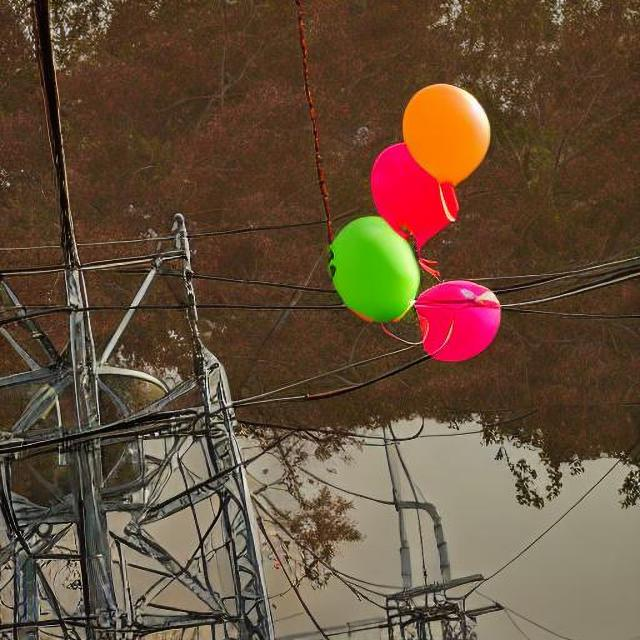balloon: (309, 73, 515, 375)
